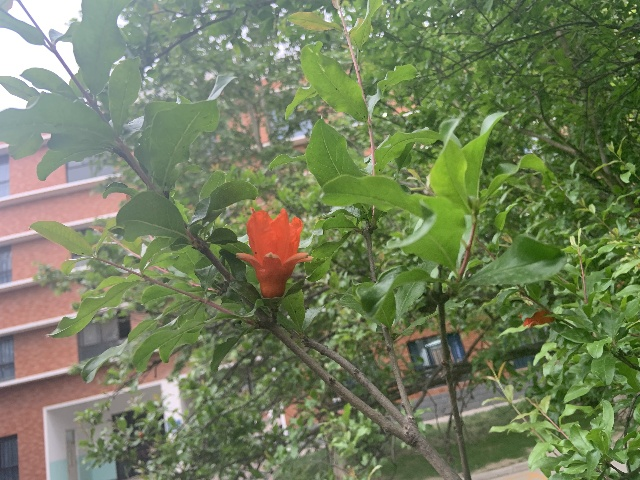flower: (236, 206, 313, 298), (518, 309, 555, 327)
